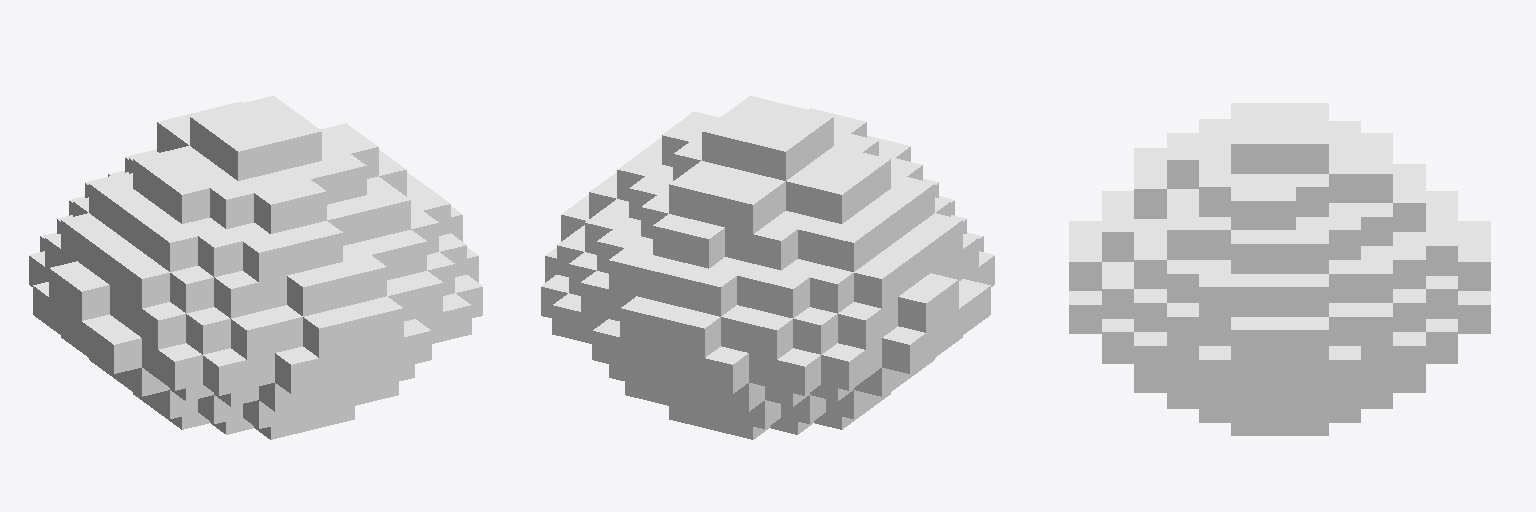
Rendered from bush_frst.obj.
3 renders of one model, left to right at view 1: azimuth 30°, elevation 25°; view 2: azimuth 150°, elevation 25°; view 3: azimuth 270°, elevation 25°, orthographic.
Visible parts, largest first — view 1: bush_frst; view 2: bush_frst; view 3: bush_frst.
Boxes of the visible parts, box(x1,y1,x2,y2) form: bush_frst: box(29, 96, 482, 439); bush_frst: box(541, 96, 994, 439); bush_frst: box(1069, 103, 1490, 435).
Size of the model in its own units: 13 by 9 by 13.